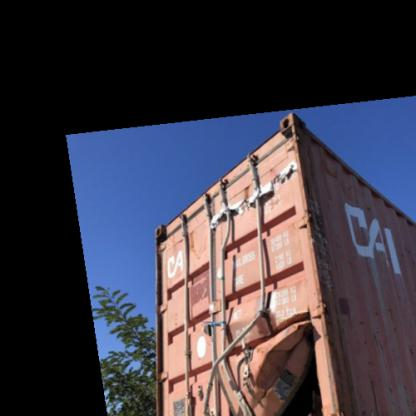Damage: (184, 185, 340, 415)
